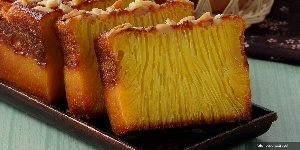bika_ambon: (17, 1, 258, 136), (88, 21, 254, 131)
